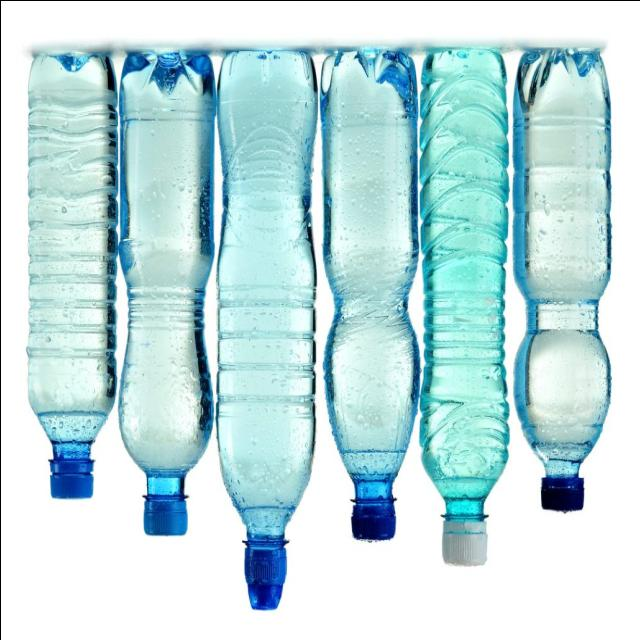bottom: (514, 40, 616, 125), (216, 44, 325, 118), (315, 43, 426, 113), (23, 43, 114, 118), (120, 49, 218, 115), (423, 46, 506, 98)
cap: (236, 516, 304, 614), (338, 480, 410, 542), (139, 482, 208, 542), (40, 445, 110, 503), (442, 496, 495, 572), (536, 459, 589, 522)
